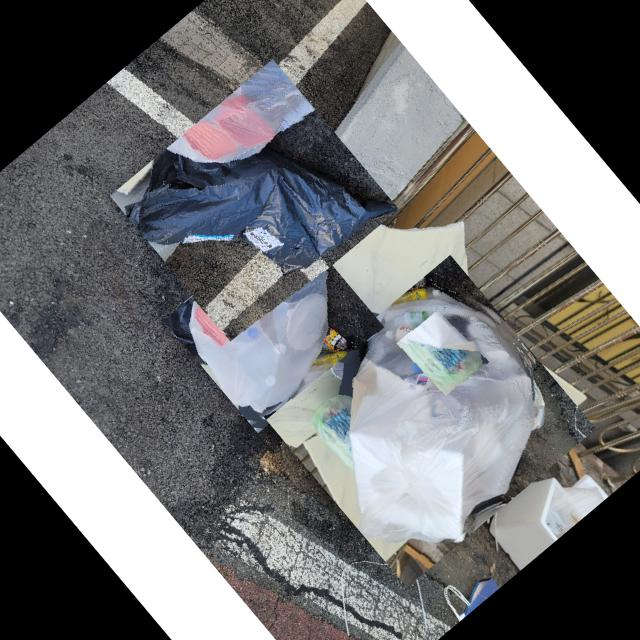general_trashbag: (405, 339, 480, 384)
other_trashbag: (350, 286, 544, 542), (128, 147, 397, 275), (190, 229, 328, 413)
